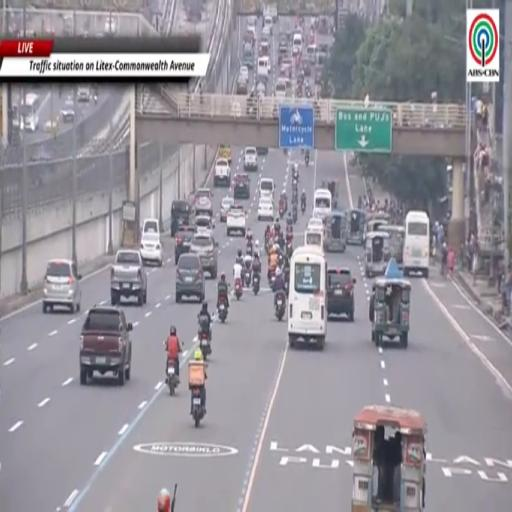bus: (288, 246, 327, 348), (403, 211, 429, 278), (21, 93, 40, 132), (313, 189, 332, 219)
car: (80, 307, 132, 386), (111, 249, 147, 306), (42, 260, 81, 312), (327, 267, 356, 322), (176, 253, 205, 302), (191, 232, 218, 279), (140, 231, 163, 266), (171, 200, 191, 236), (175, 227, 194, 264), (227, 204, 246, 236), (195, 188, 212, 216), (214, 158, 230, 186), (234, 173, 250, 199), (195, 215, 214, 234), (244, 147, 258, 171), (220, 197, 234, 221), (258, 198, 273, 220), (61, 99, 74, 123), (104, 14, 118, 36), (142, 218, 160, 235), (77, 86, 91, 102), (307, 218, 323, 231), (237, 77, 248, 94), (239, 66, 249, 81), (261, 26, 271, 41), (257, 147, 268, 155)
jeepney: (352, 406, 426, 511), (369, 277, 410, 348), (365, 232, 390, 278), (379, 224, 405, 267), (324, 211, 347, 251), (347, 210, 365, 245), (366, 213, 390, 233), (304, 229, 323, 251), (218, 144, 232, 165)
motorcycle: (191, 388, 204, 427), (198, 328, 211, 360), (167, 362, 179, 395), (275, 292, 285, 321), (218, 297, 228, 323), (234, 279, 242, 300), (253, 274, 260, 295), (245, 264, 251, 287), (268, 269, 275, 287), (286, 242, 293, 258), (246, 241, 253, 256), (279, 202, 285, 218), (292, 206, 297, 223), (301, 202, 305, 214), (305, 154, 309, 166), (93, 94, 97, 104)
